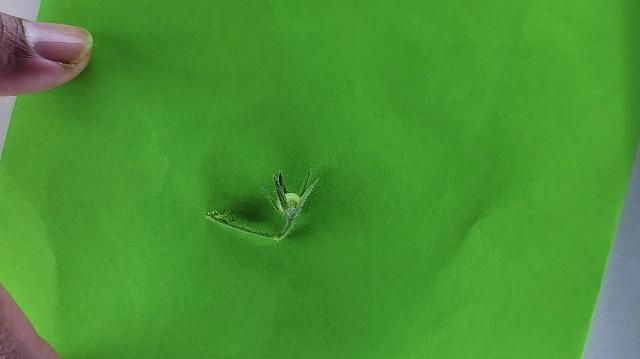Fruit Bud: (265, 168, 317, 220)
